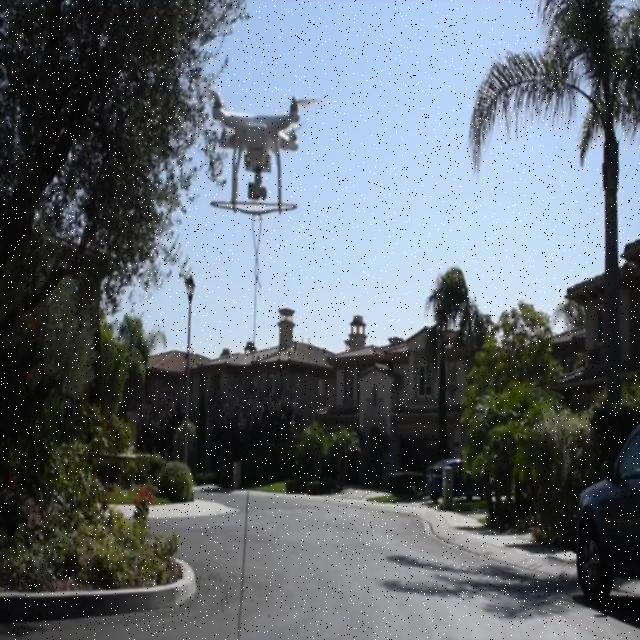UAV: (195, 83, 321, 215)
